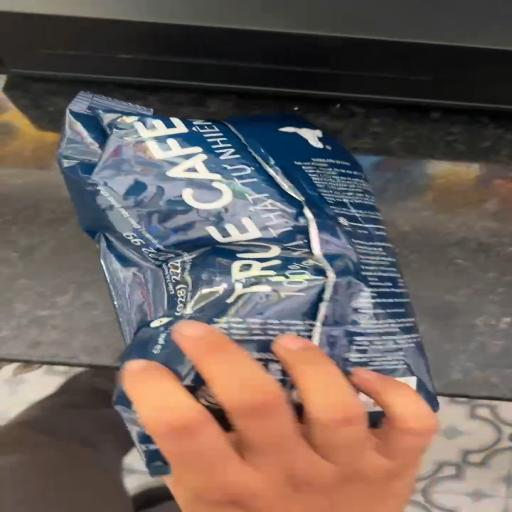cafe_hat: (58, 92, 438, 429), (115, 388, 169, 476), (360, 394, 383, 426)
